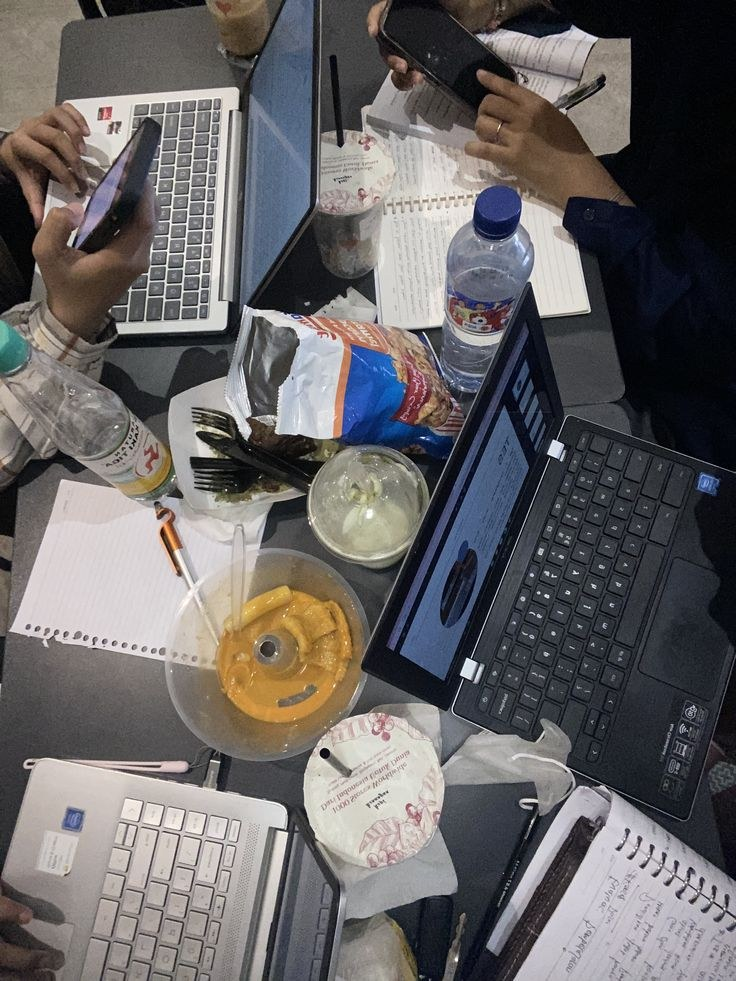cell phone: (376, 0, 518, 120), (71, 116, 163, 254)
laptop: (359, 280, 735, 822), (39, 13, 319, 347), (1, 757, 345, 979)
